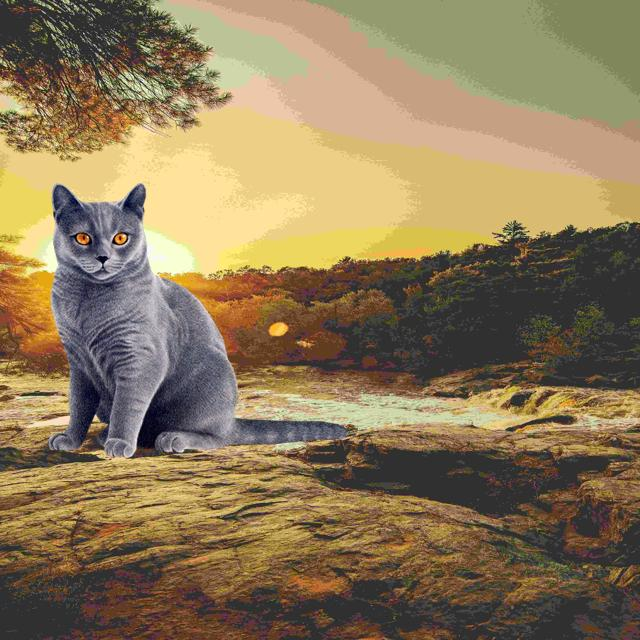cat: (22, 169, 351, 467)
